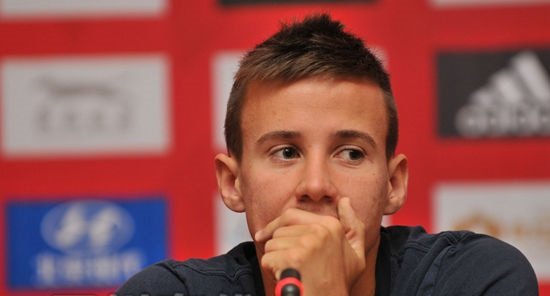face: (245, 86, 387, 258)
